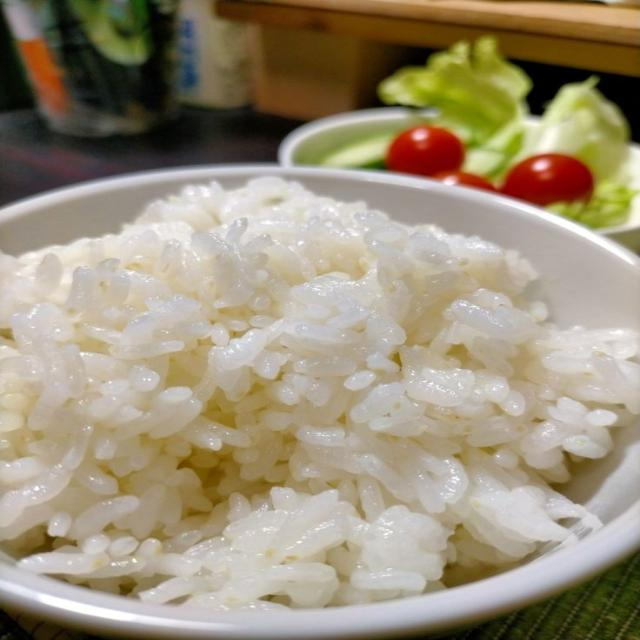Chicken -Chicken Inasal-: (24, 185, 546, 581)
